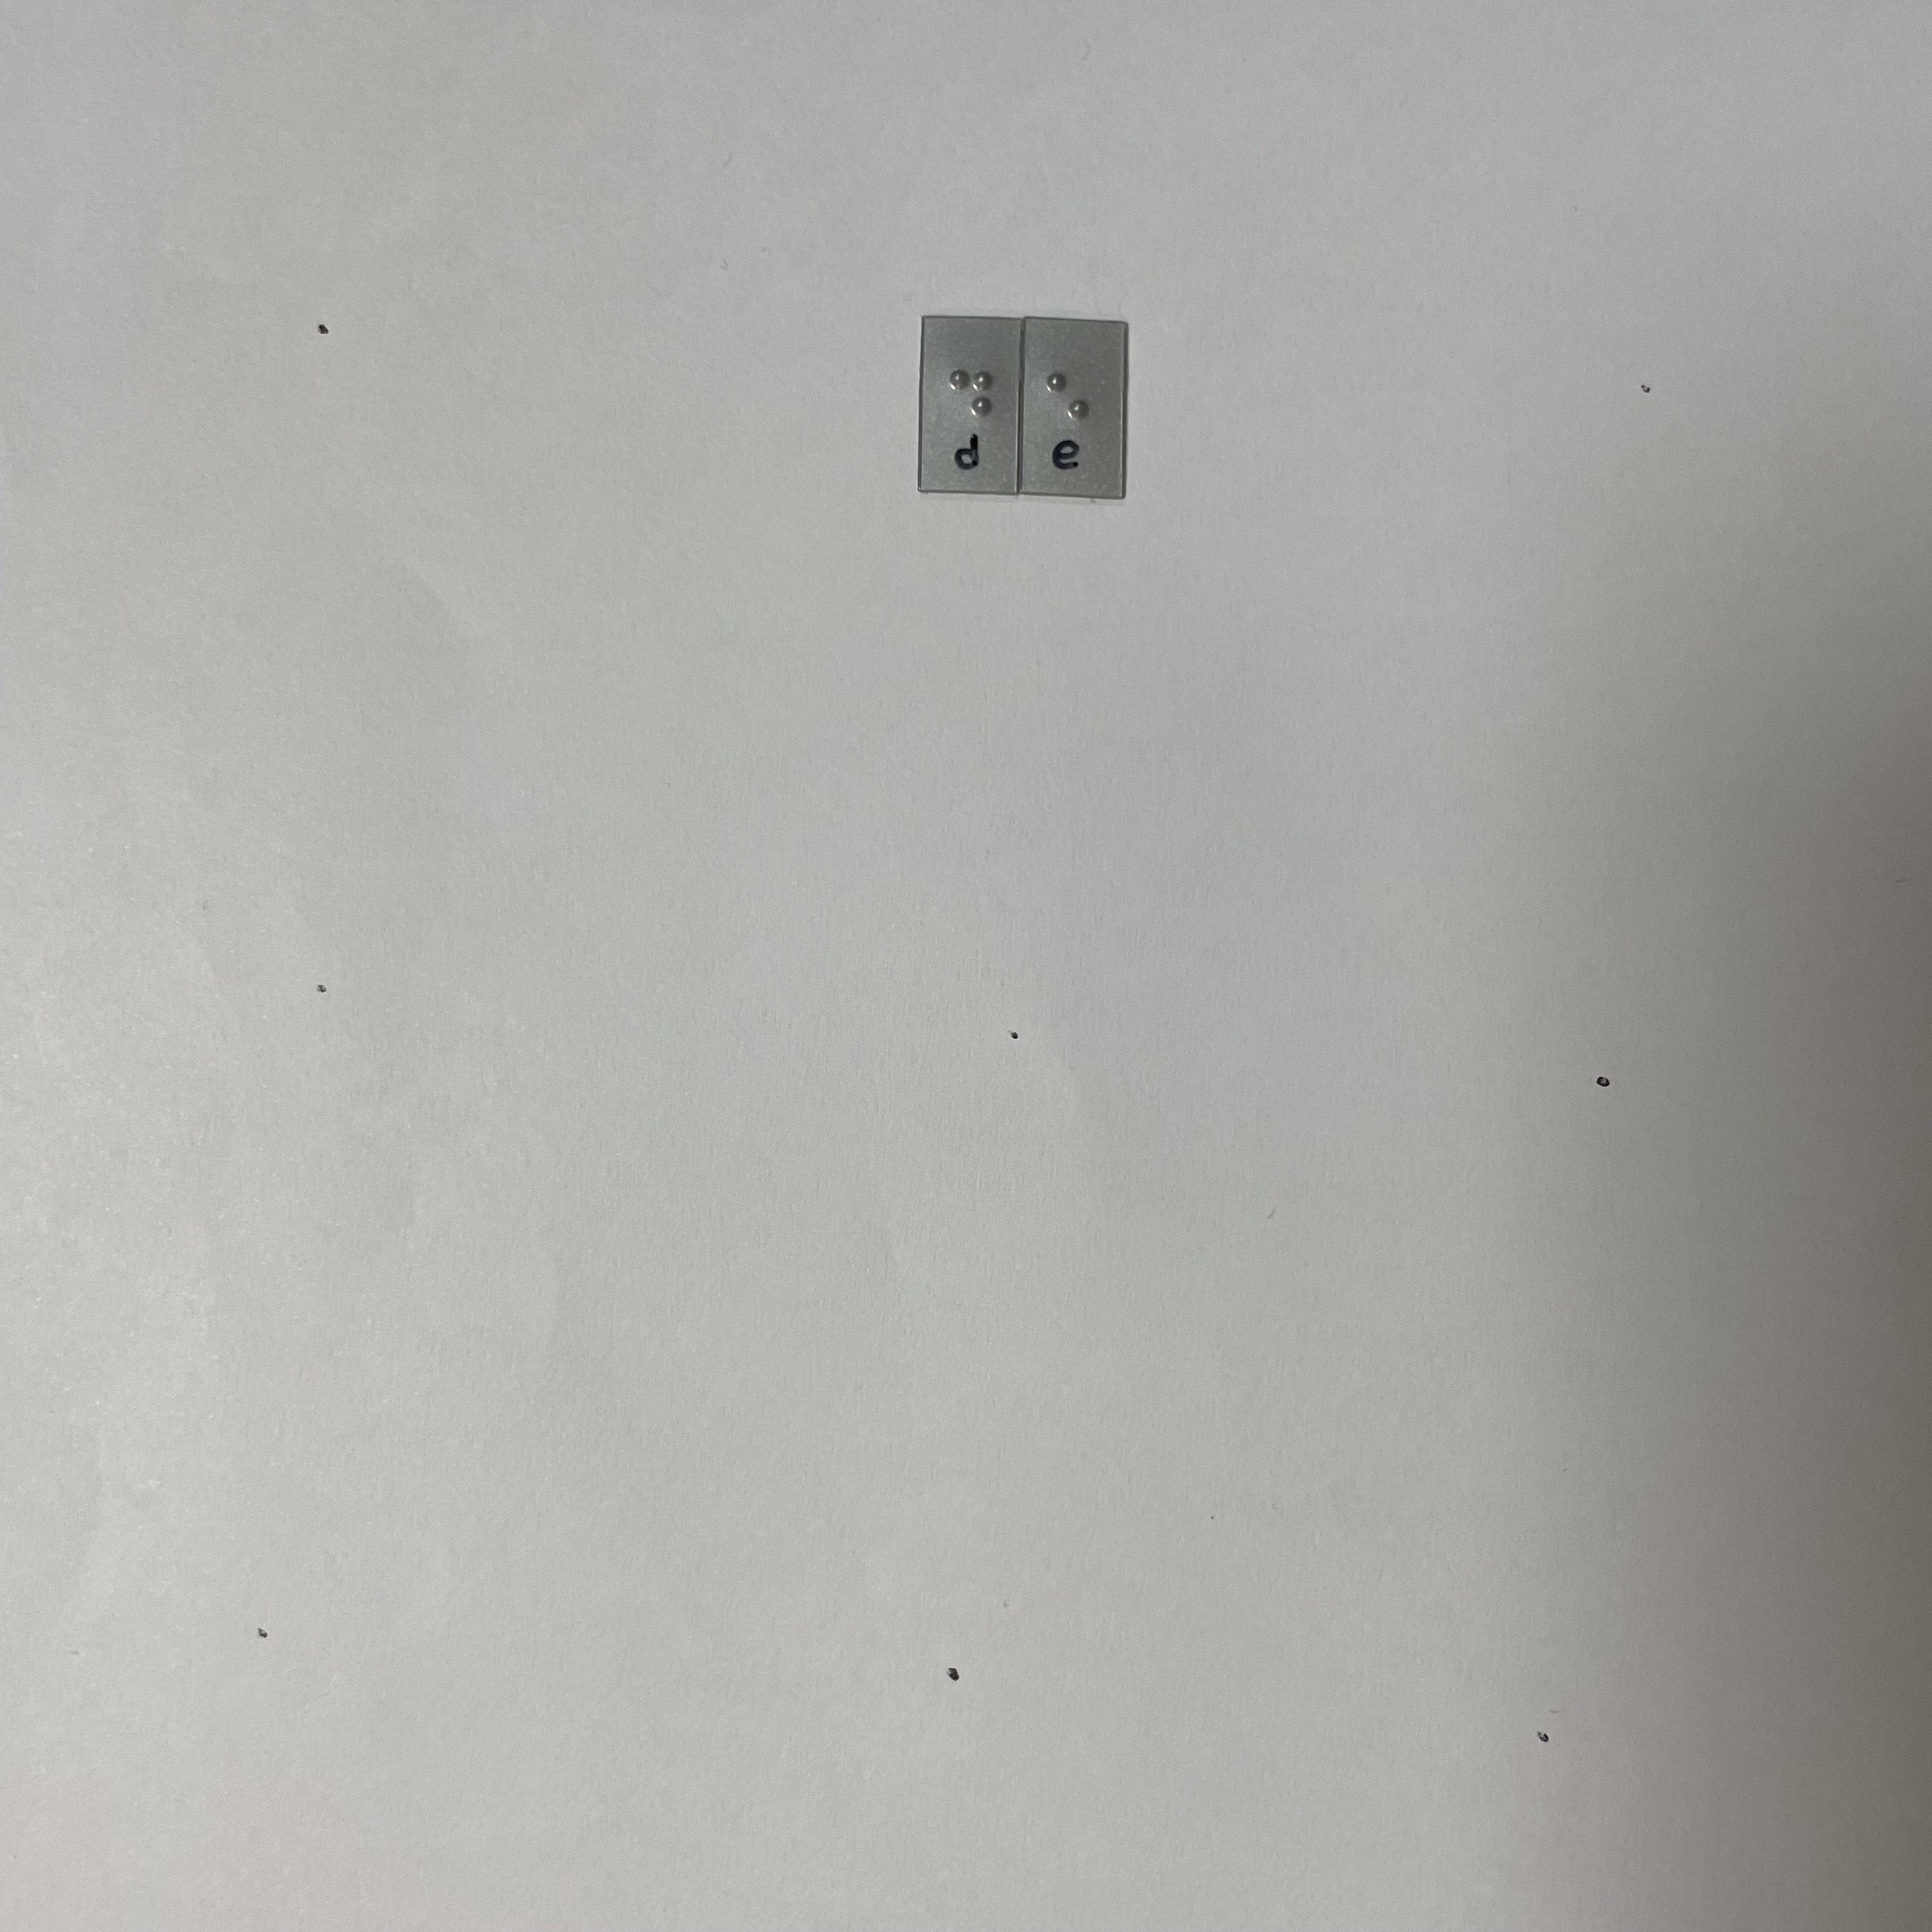d: (942, 355, 1004, 443)
e: (1041, 358, 1101, 450)
